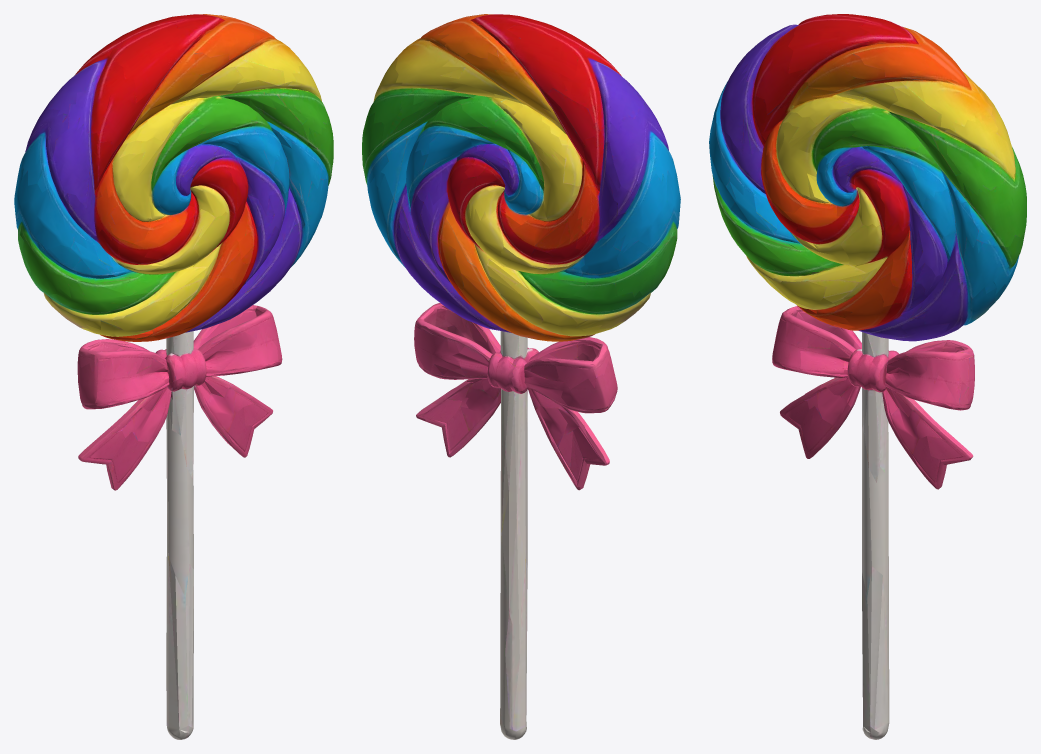
File: giant_lollipop.glb
3 renders of one model, left to right at view 1: azimuth 30°, elevation 25°; view 2: azimuth 150°, elevation 25°; view 3: azimuth 330°, elevation 25°, orthographic.
Parts seen in each view (by area): view 1: Mesh_0; view 2: Mesh_0; view 3: Mesh_0.
Boxes of the visible parts, x1,y1,x2,y2 form: Mesh_0: (14, 14, 333, 739); Mesh_0: (362, 14, 680, 739); Mesh_0: (709, 14, 1026, 739).
Bounding box in the file's own units: 0.4484 × 1 × 0.1217.
1 material, 1 textured.
